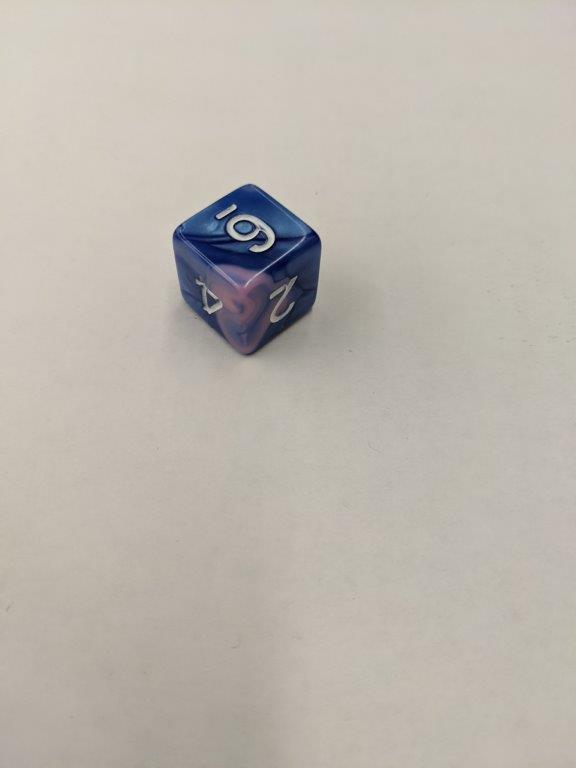d6-6: (174, 180, 321, 354)
